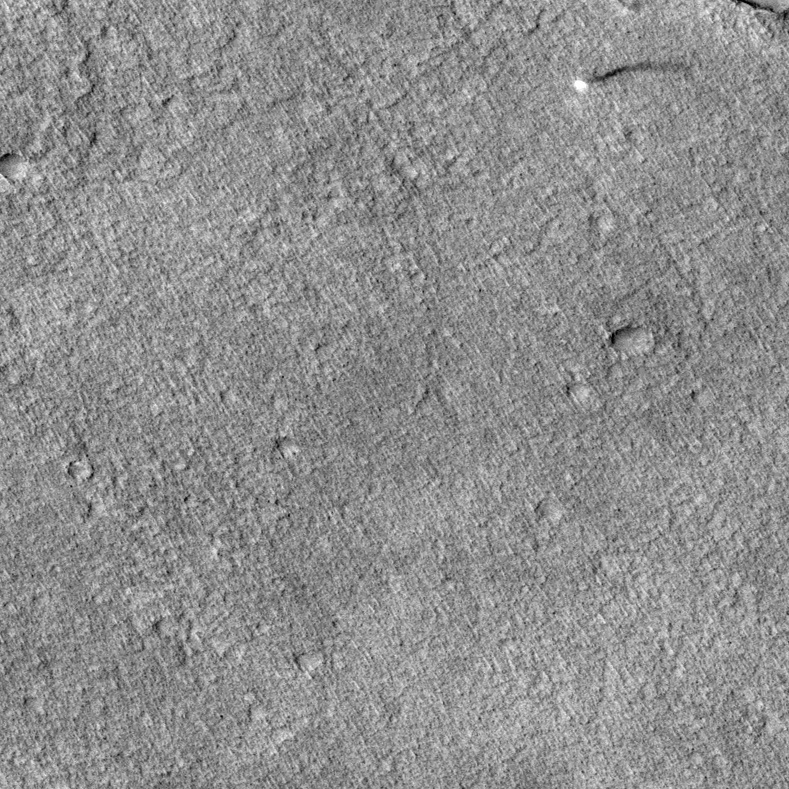dust_devil: (571, 59, 692, 97)
